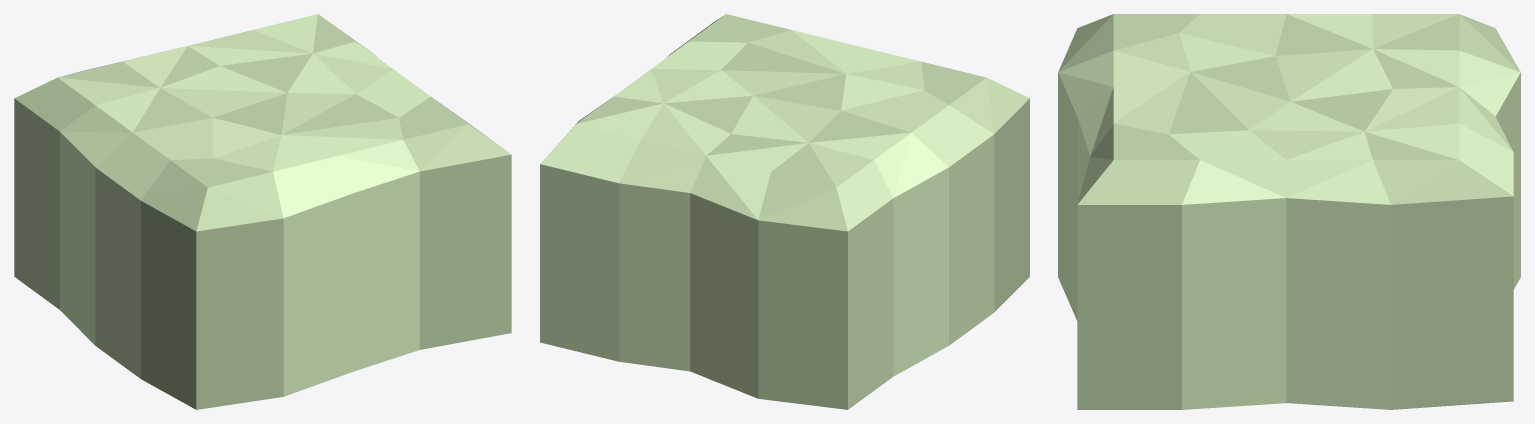
The model's file is Plain.fbx.
The picture shows the model from 3 angles, left to right: view 1: azimuth 30°, elevation 25°; view 2: azimuth 150°, elevation 25°; view 3: azimuth 270°, elevation 25°; orthographic projection. The views are drawn at different scales.
Parts seen in each view (by area): view 1: Plain; view 2: Plain; view 3: Plain.
Part boxes in pixels (bbox=[...]): Plain: bbox=[14, 14, 511, 409]; Plain: bbox=[540, 14, 1029, 409]; Plain: bbox=[1058, 14, 1520, 409].
Size of the model in its own units: 62.42 by 37.8 by 66.93.
